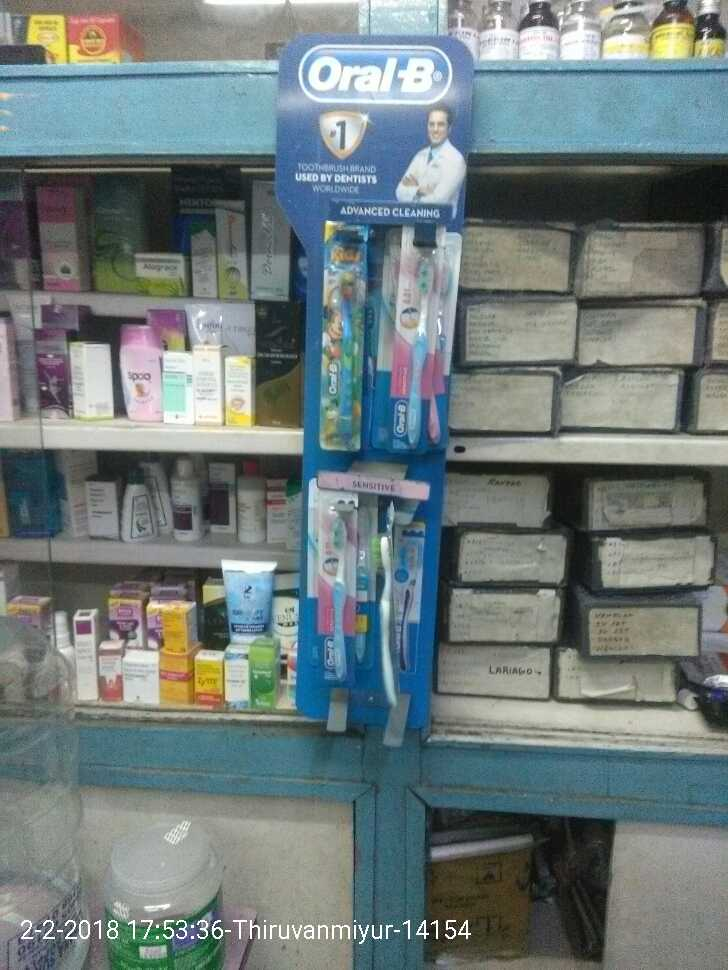oralb: (390, 247, 449, 444), (308, 475, 360, 693), (322, 226, 374, 440), (367, 516, 413, 711)
